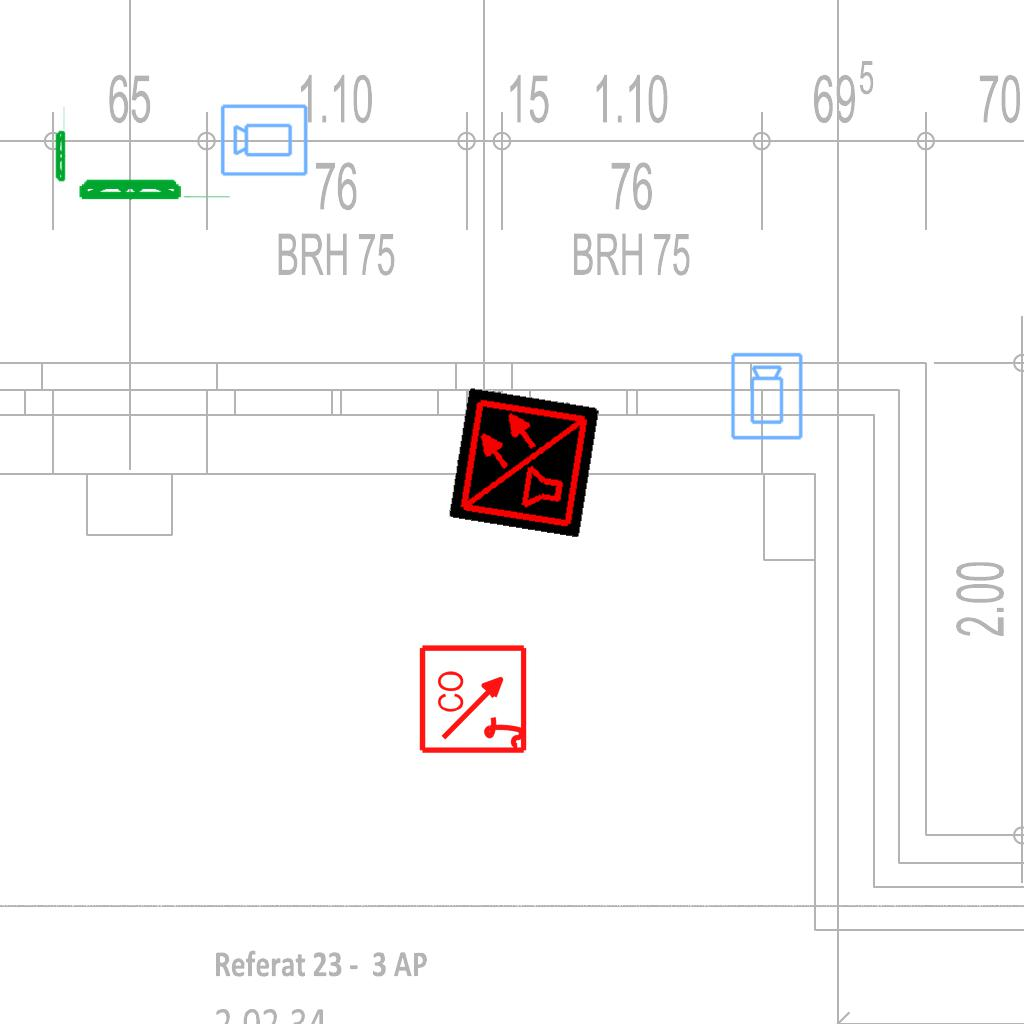KFO_Kamera_mit_Festobjektiv: (729, 351, 806, 442), (219, 101, 310, 178)
OKW_Multisensormelder_(Kombination_optischer_Rauch-Kahlenmonoxid_Waerme-Melder): (448, 386, 600, 538)
ROA_Rauchmelder_optisch_mit_Signalgeber_(Sockelsirene): (418, 642, 531, 755)
Sicherheitsleuchte_Wandeinbau: (76, 176, 235, 201), (54, 104, 66, 183)
